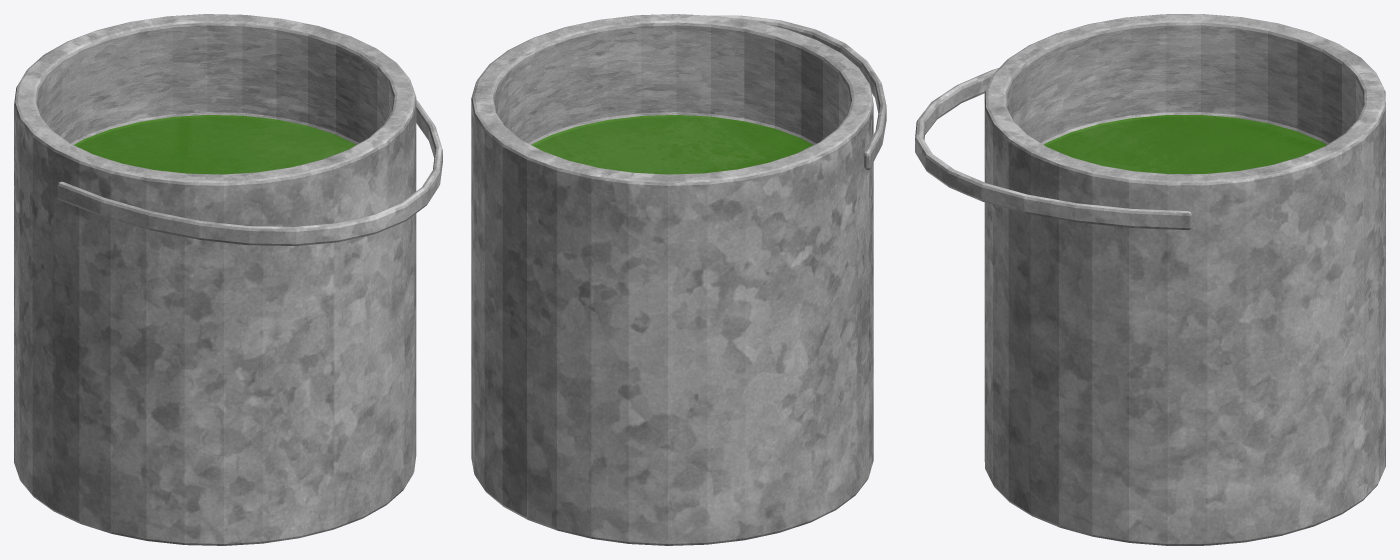
Rendered from pot vert.fbx.
The picture shows the model from 3 angles, left to right: view 1: azimuth 30°, elevation 25°; view 2: azimuth 150°, elevation 25°; view 3: azimuth 270°, elevation 25°; orthographic projection.
Visible parts, largest first — view 1: pot 3; view 2: pot 3; view 3: pot 3.
Part boxes in pixels (x1=…): pot 3: x1=14, y1=14, x2=442, y2=545; pot 3: x1=471, y1=14, x2=886, y2=545; pot 3: x1=915, y1=14, x2=1385, y2=545.
Size of the model in its own units: 55.9 by 54.23 by 63.39.
1 material, 1 textured.
